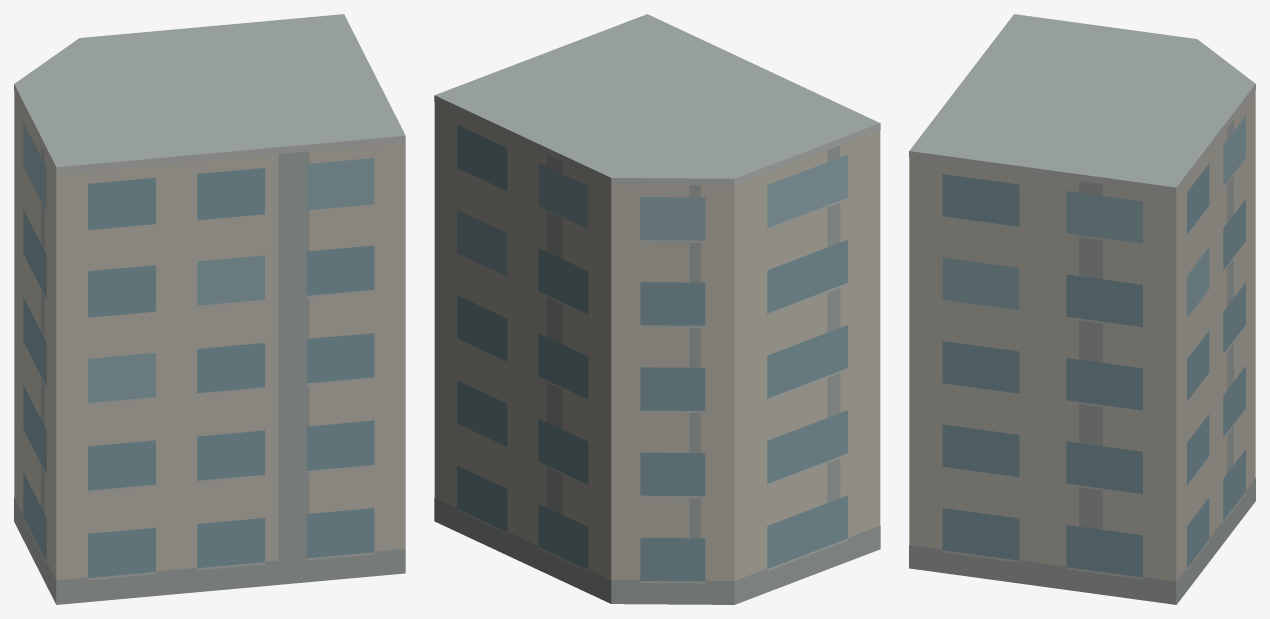
The model's file is residential-26d190f8-0943-401f-9b66-095f33c31d50.glb.
3 renders of one model, left to right at view 1: azimuth 30°, elevation 25°; view 2: azimuth 150°, elevation 25°; view 3: azimuth 270°, elevation 25°, orthographic. The views are drawn at different scales.
Parts seen in each view (by area): view 1: residential-26d190f8-0943-401f-9b66-095f33c31d50.tmp; view 2: residential-26d190f8-0943-401f-9b66-095f33c31d50.tmp; view 3: residential-26d190f8-0943-401f-9b66-095f33c31d50.tmp.
Boxes of the visible parts, x1,y1,x2,y2 form: residential-26d190f8-0943-401f-9b66-095f33c31d50.tmp: [14, 14, 405, 604]; residential-26d190f8-0943-401f-9b66-095f33c31d50.tmp: [434, 14, 880, 604]; residential-26d190f8-0943-401f-9b66-095f33c31d50.tmp: [909, 14, 1255, 604].
Size of the model in its own units: 13.61 by 15.25 by 11.49.
